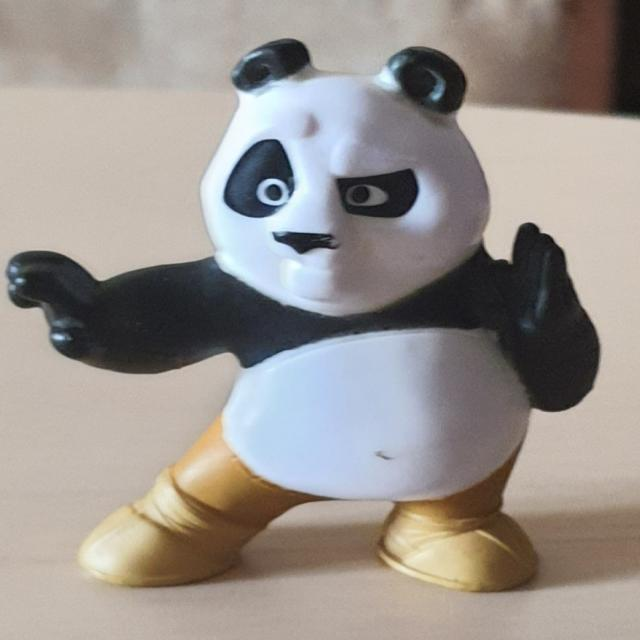Panda: (8, 39, 598, 589)
